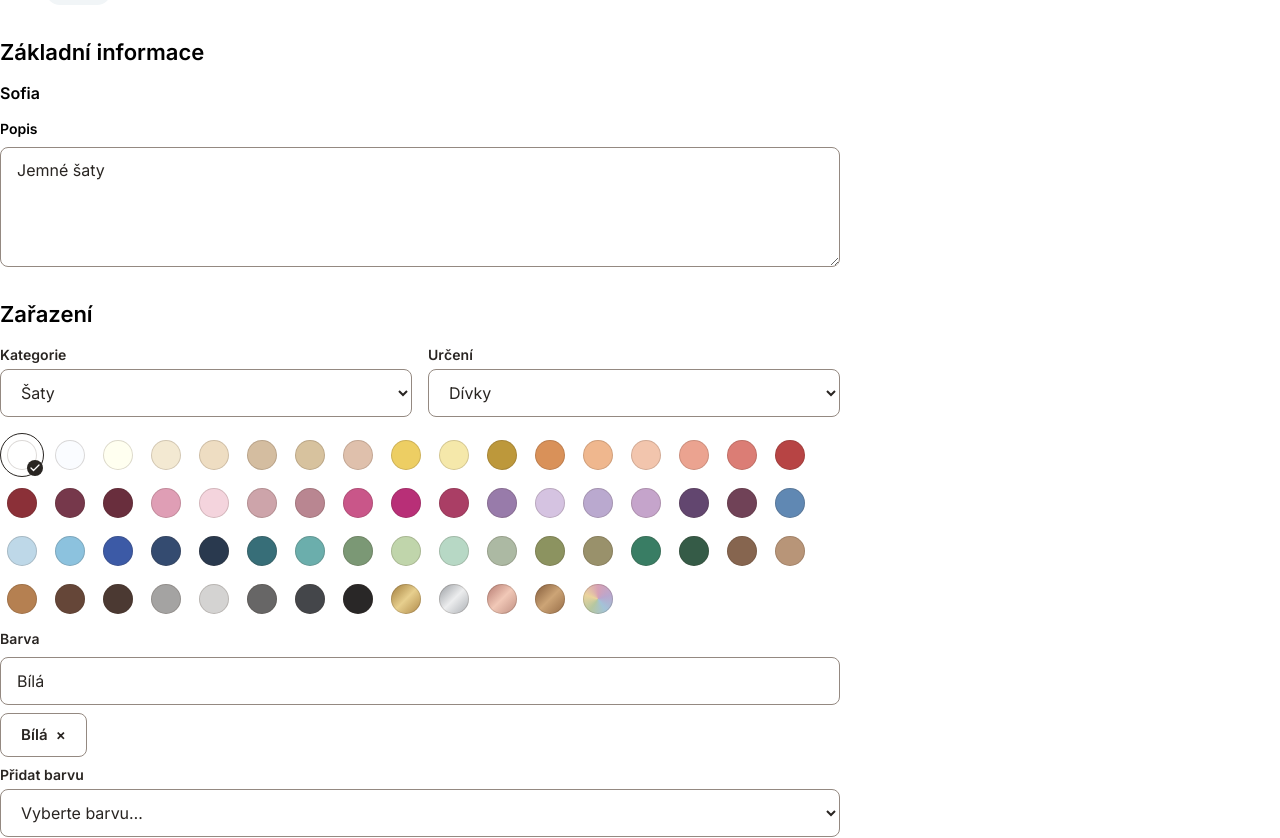
it: successful delete reconciles photos while independent Core Save only PATCHes changed Core field
Replace the text in the field labelled "Barva" with "Růžová" at (420, 681), box [17,669,823,693]
(page scrolled)
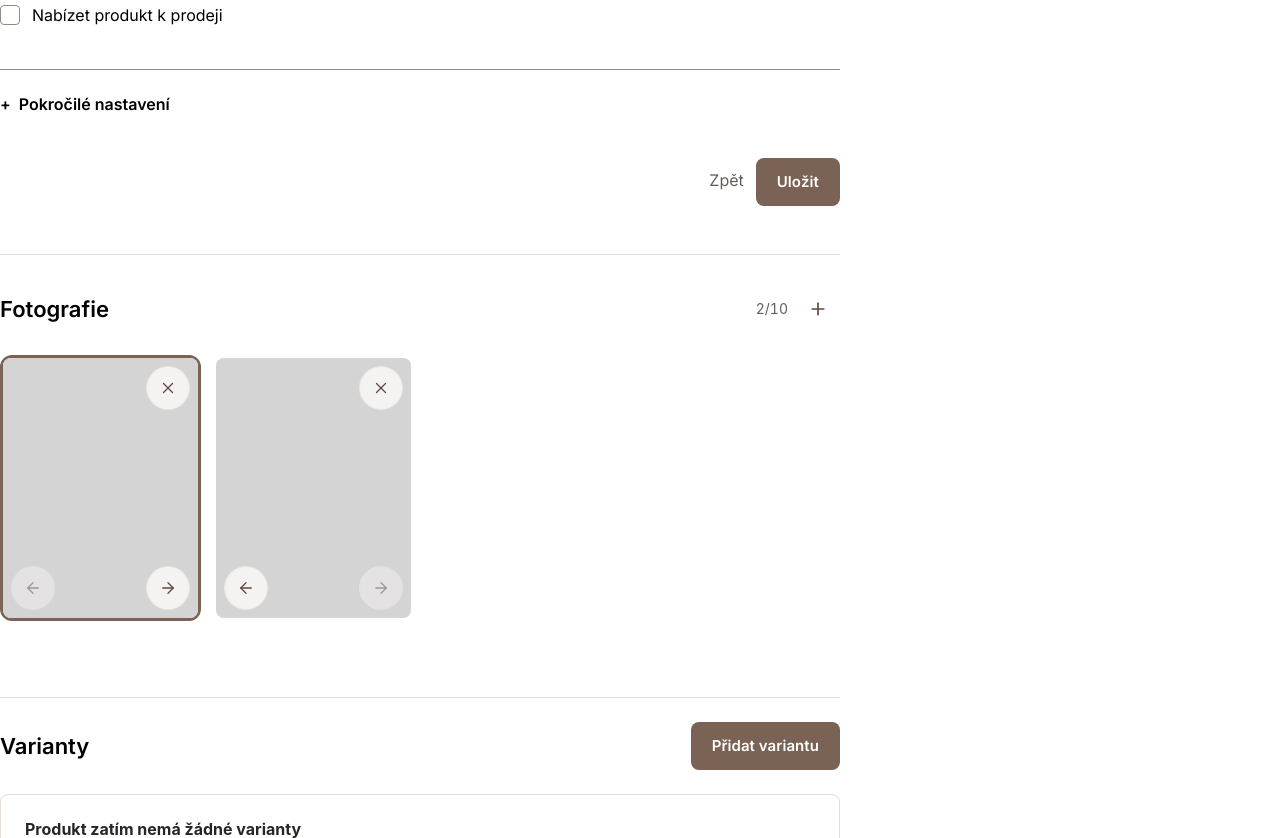
Click the 1st button named "Odebrat fotografii" at (168, 388), box [146,366,190,410]
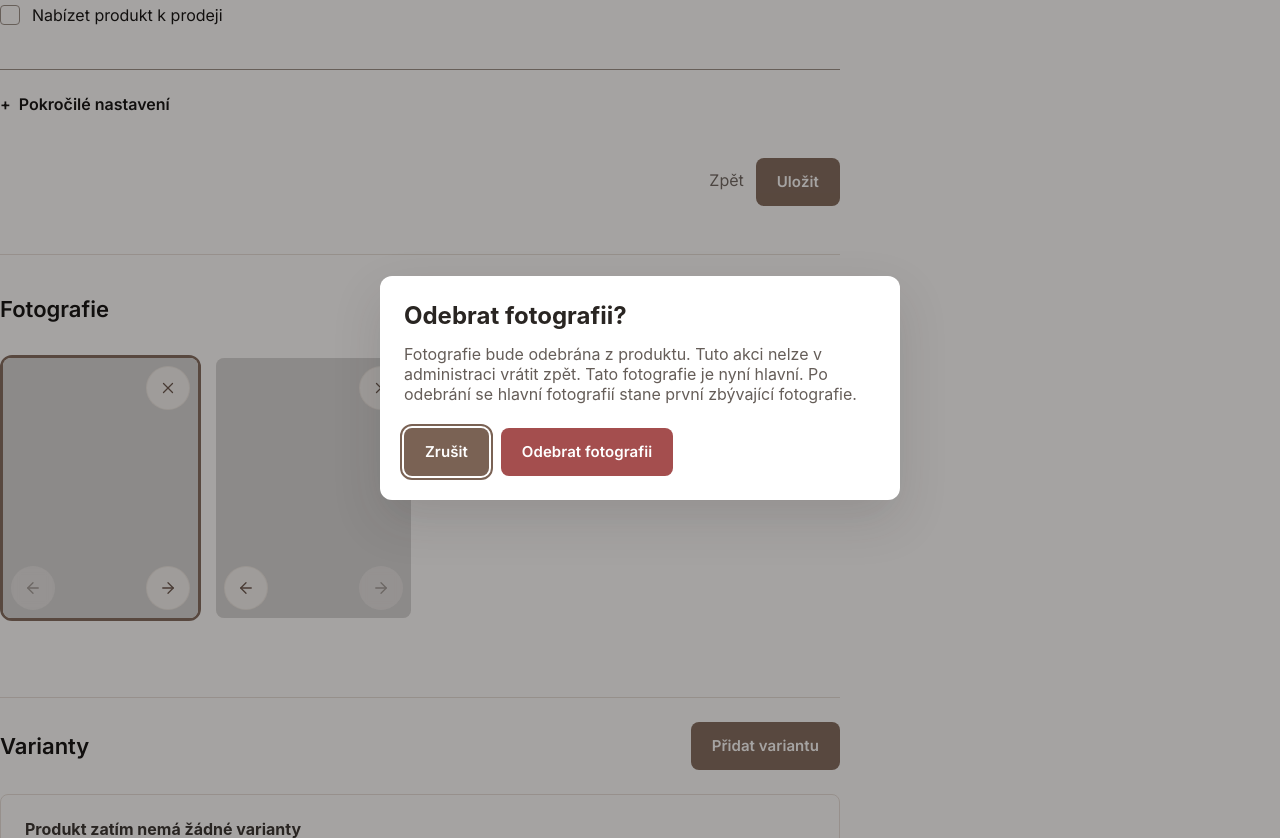
Click the button "Odebrat fotografii" at (587, 452), box [501,428,673,476]
(page scrolled)
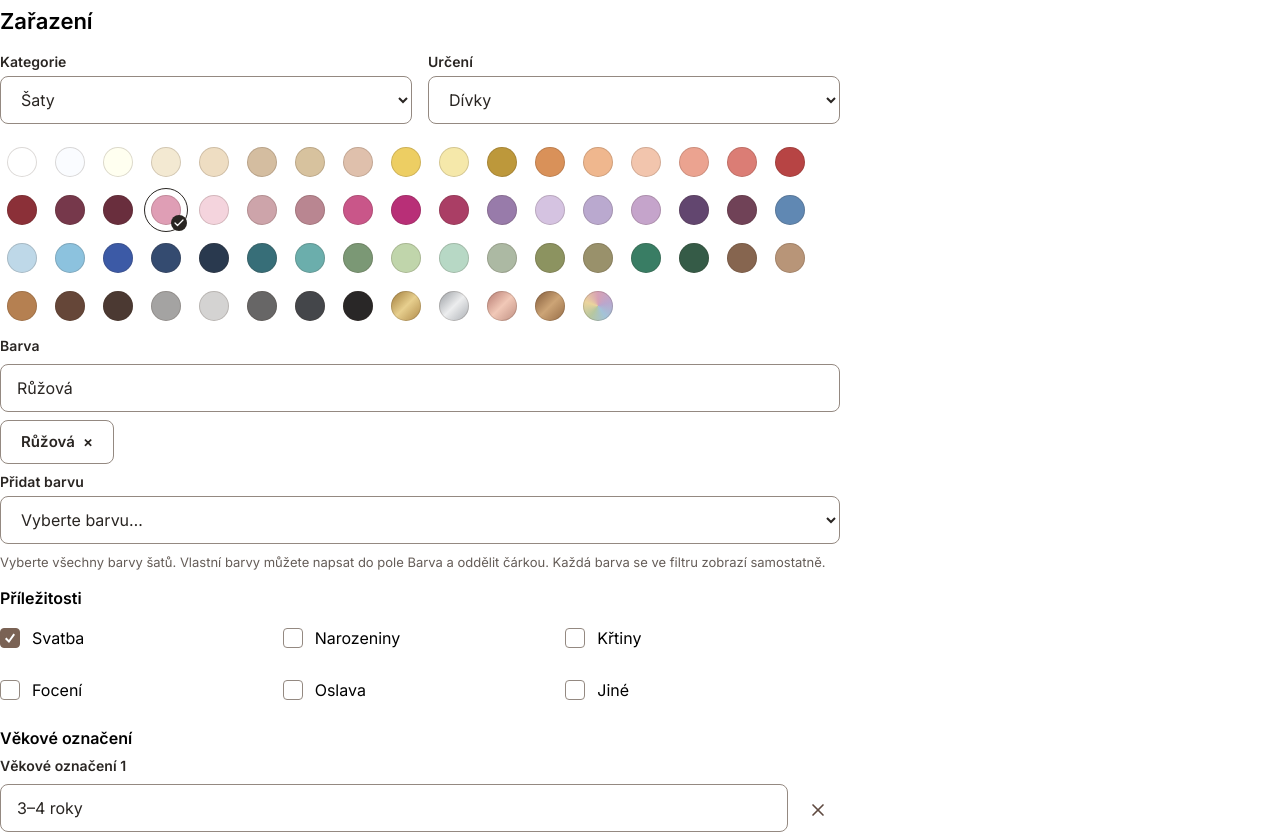
Result: the dialog is gone
Result: the picture is gone
Replace the text in the field labelled "Barva" with "Bílá" at (420, 388), box [17,376,823,400]
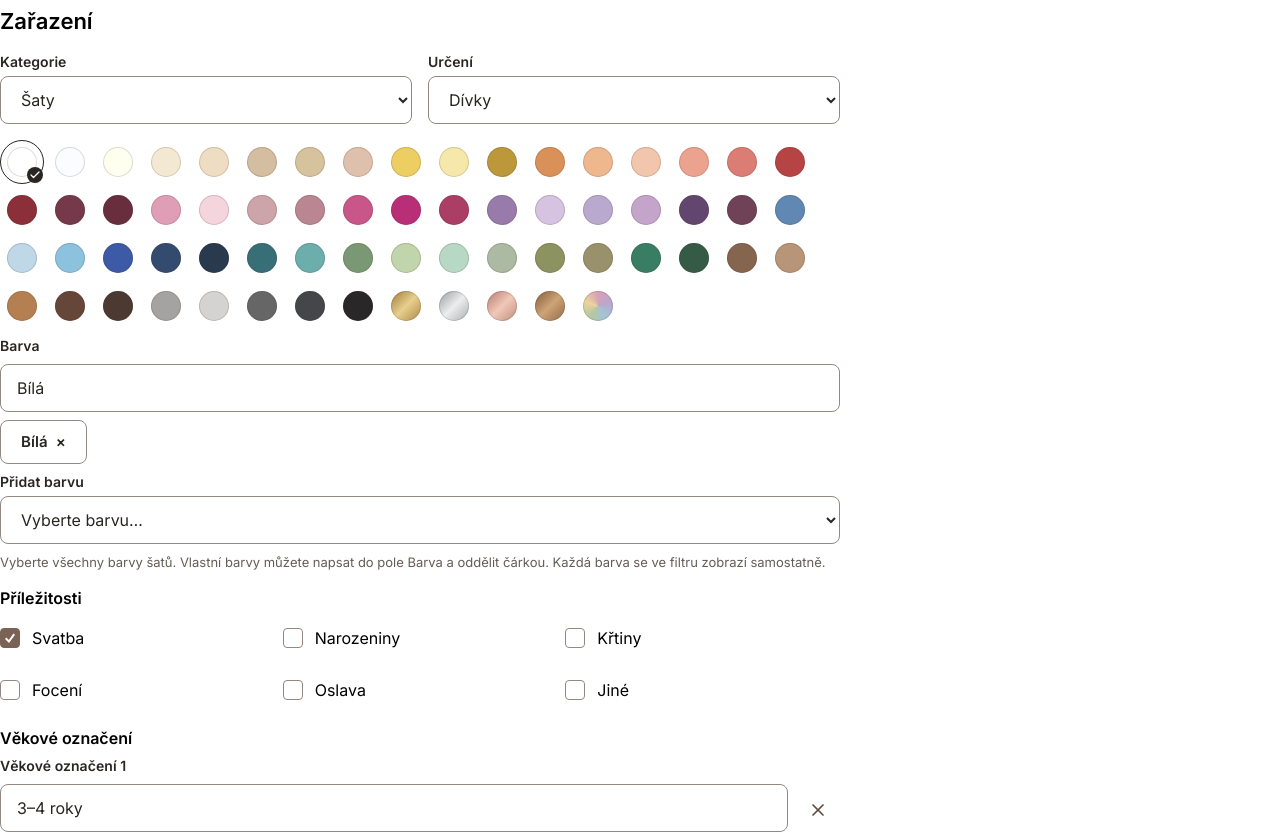
Replace the text in the field labelled "Barva" with "Růžová" at (420, 388), box [17,376,823,400]
(page scrolled)
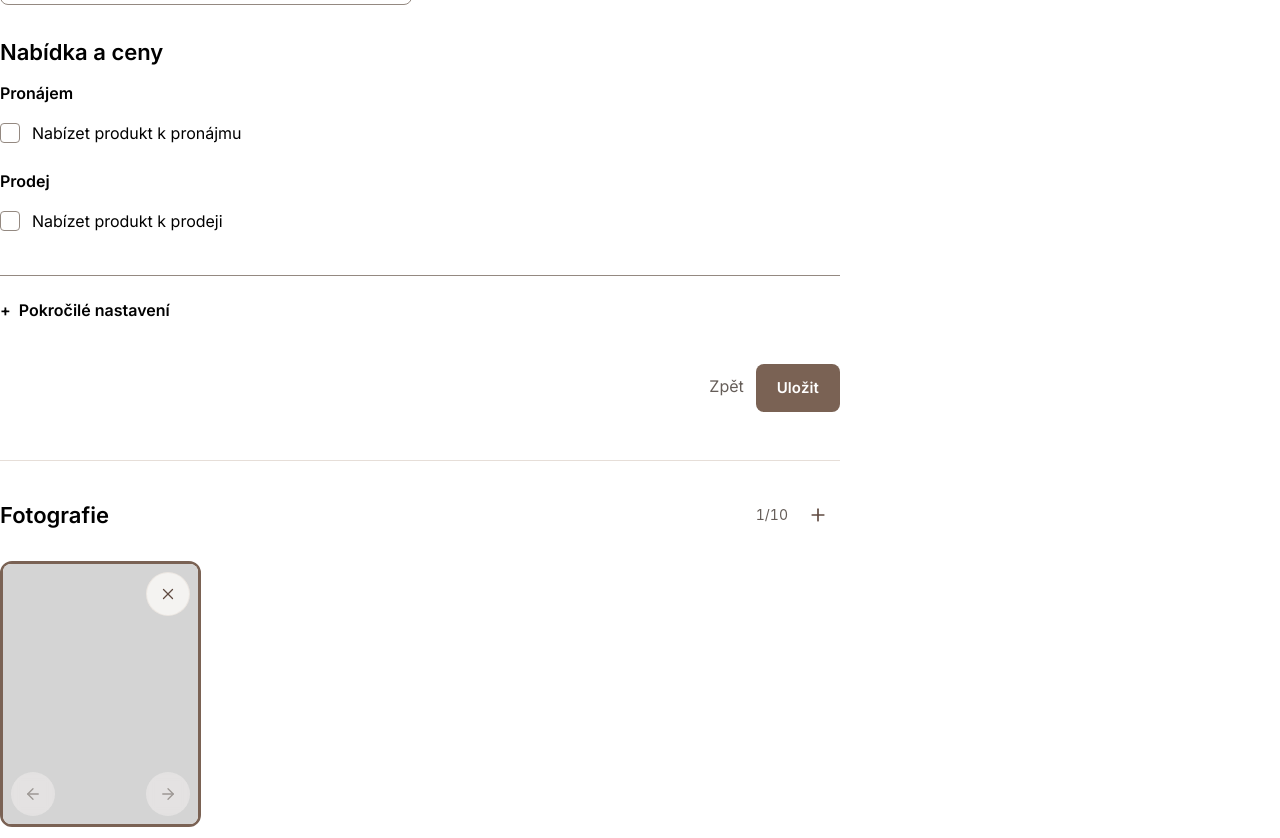
Click the button "Uložit" at (798, 388), box [756,364,840,412]
(page scrolled)
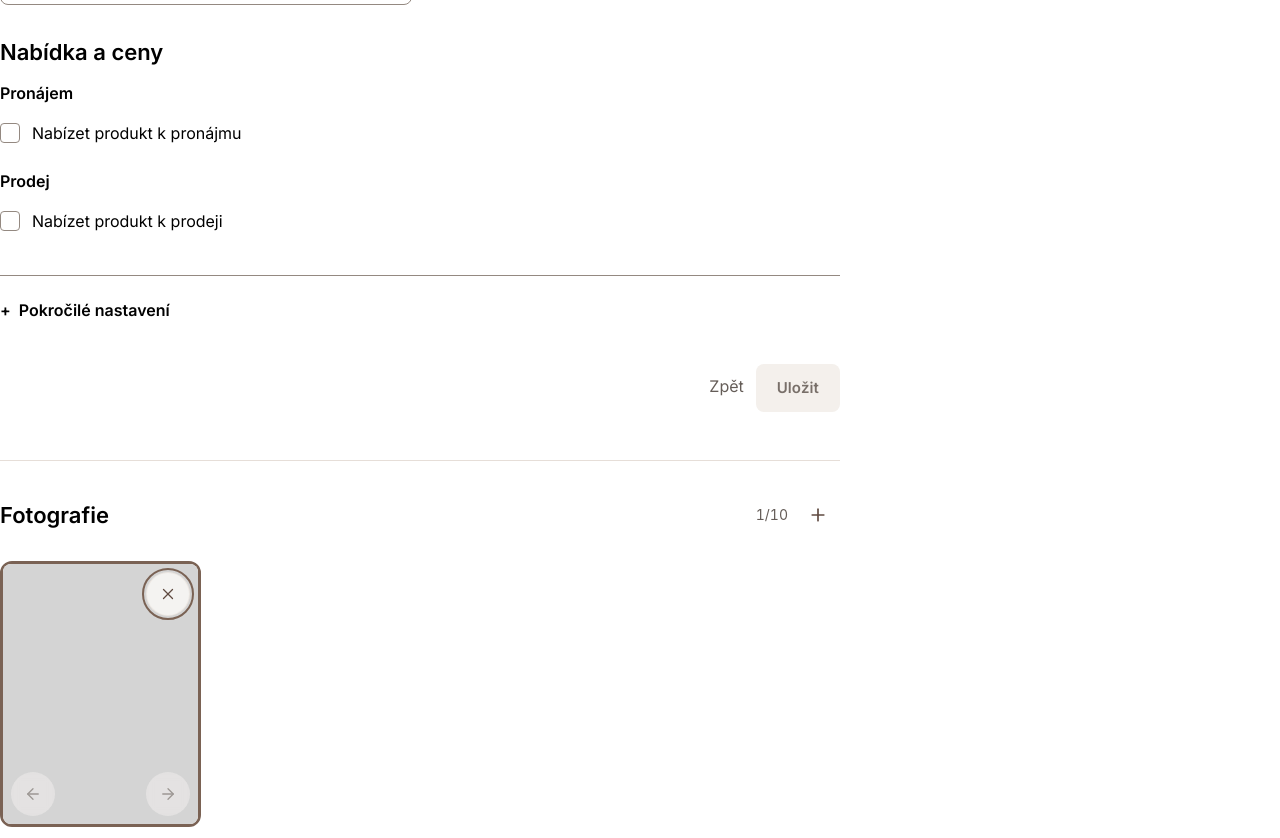
Result: the button "Uložit" is disabled at [756,364,840,412]
